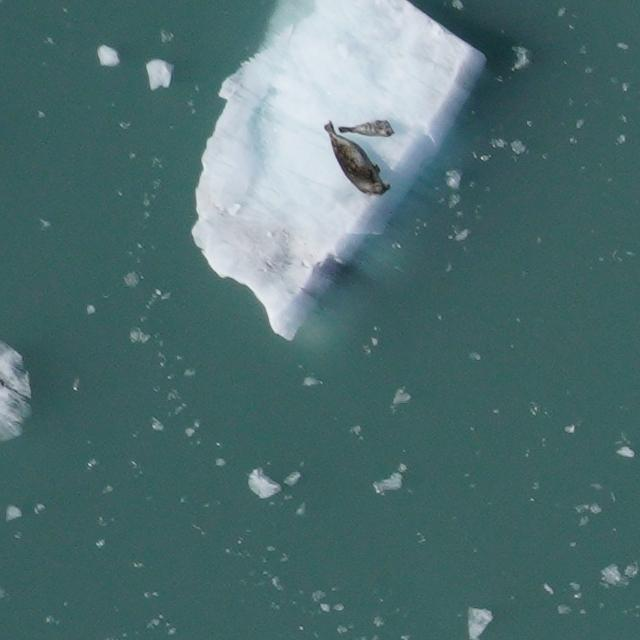seal: (320, 117, 392, 198), (333, 116, 398, 140)
